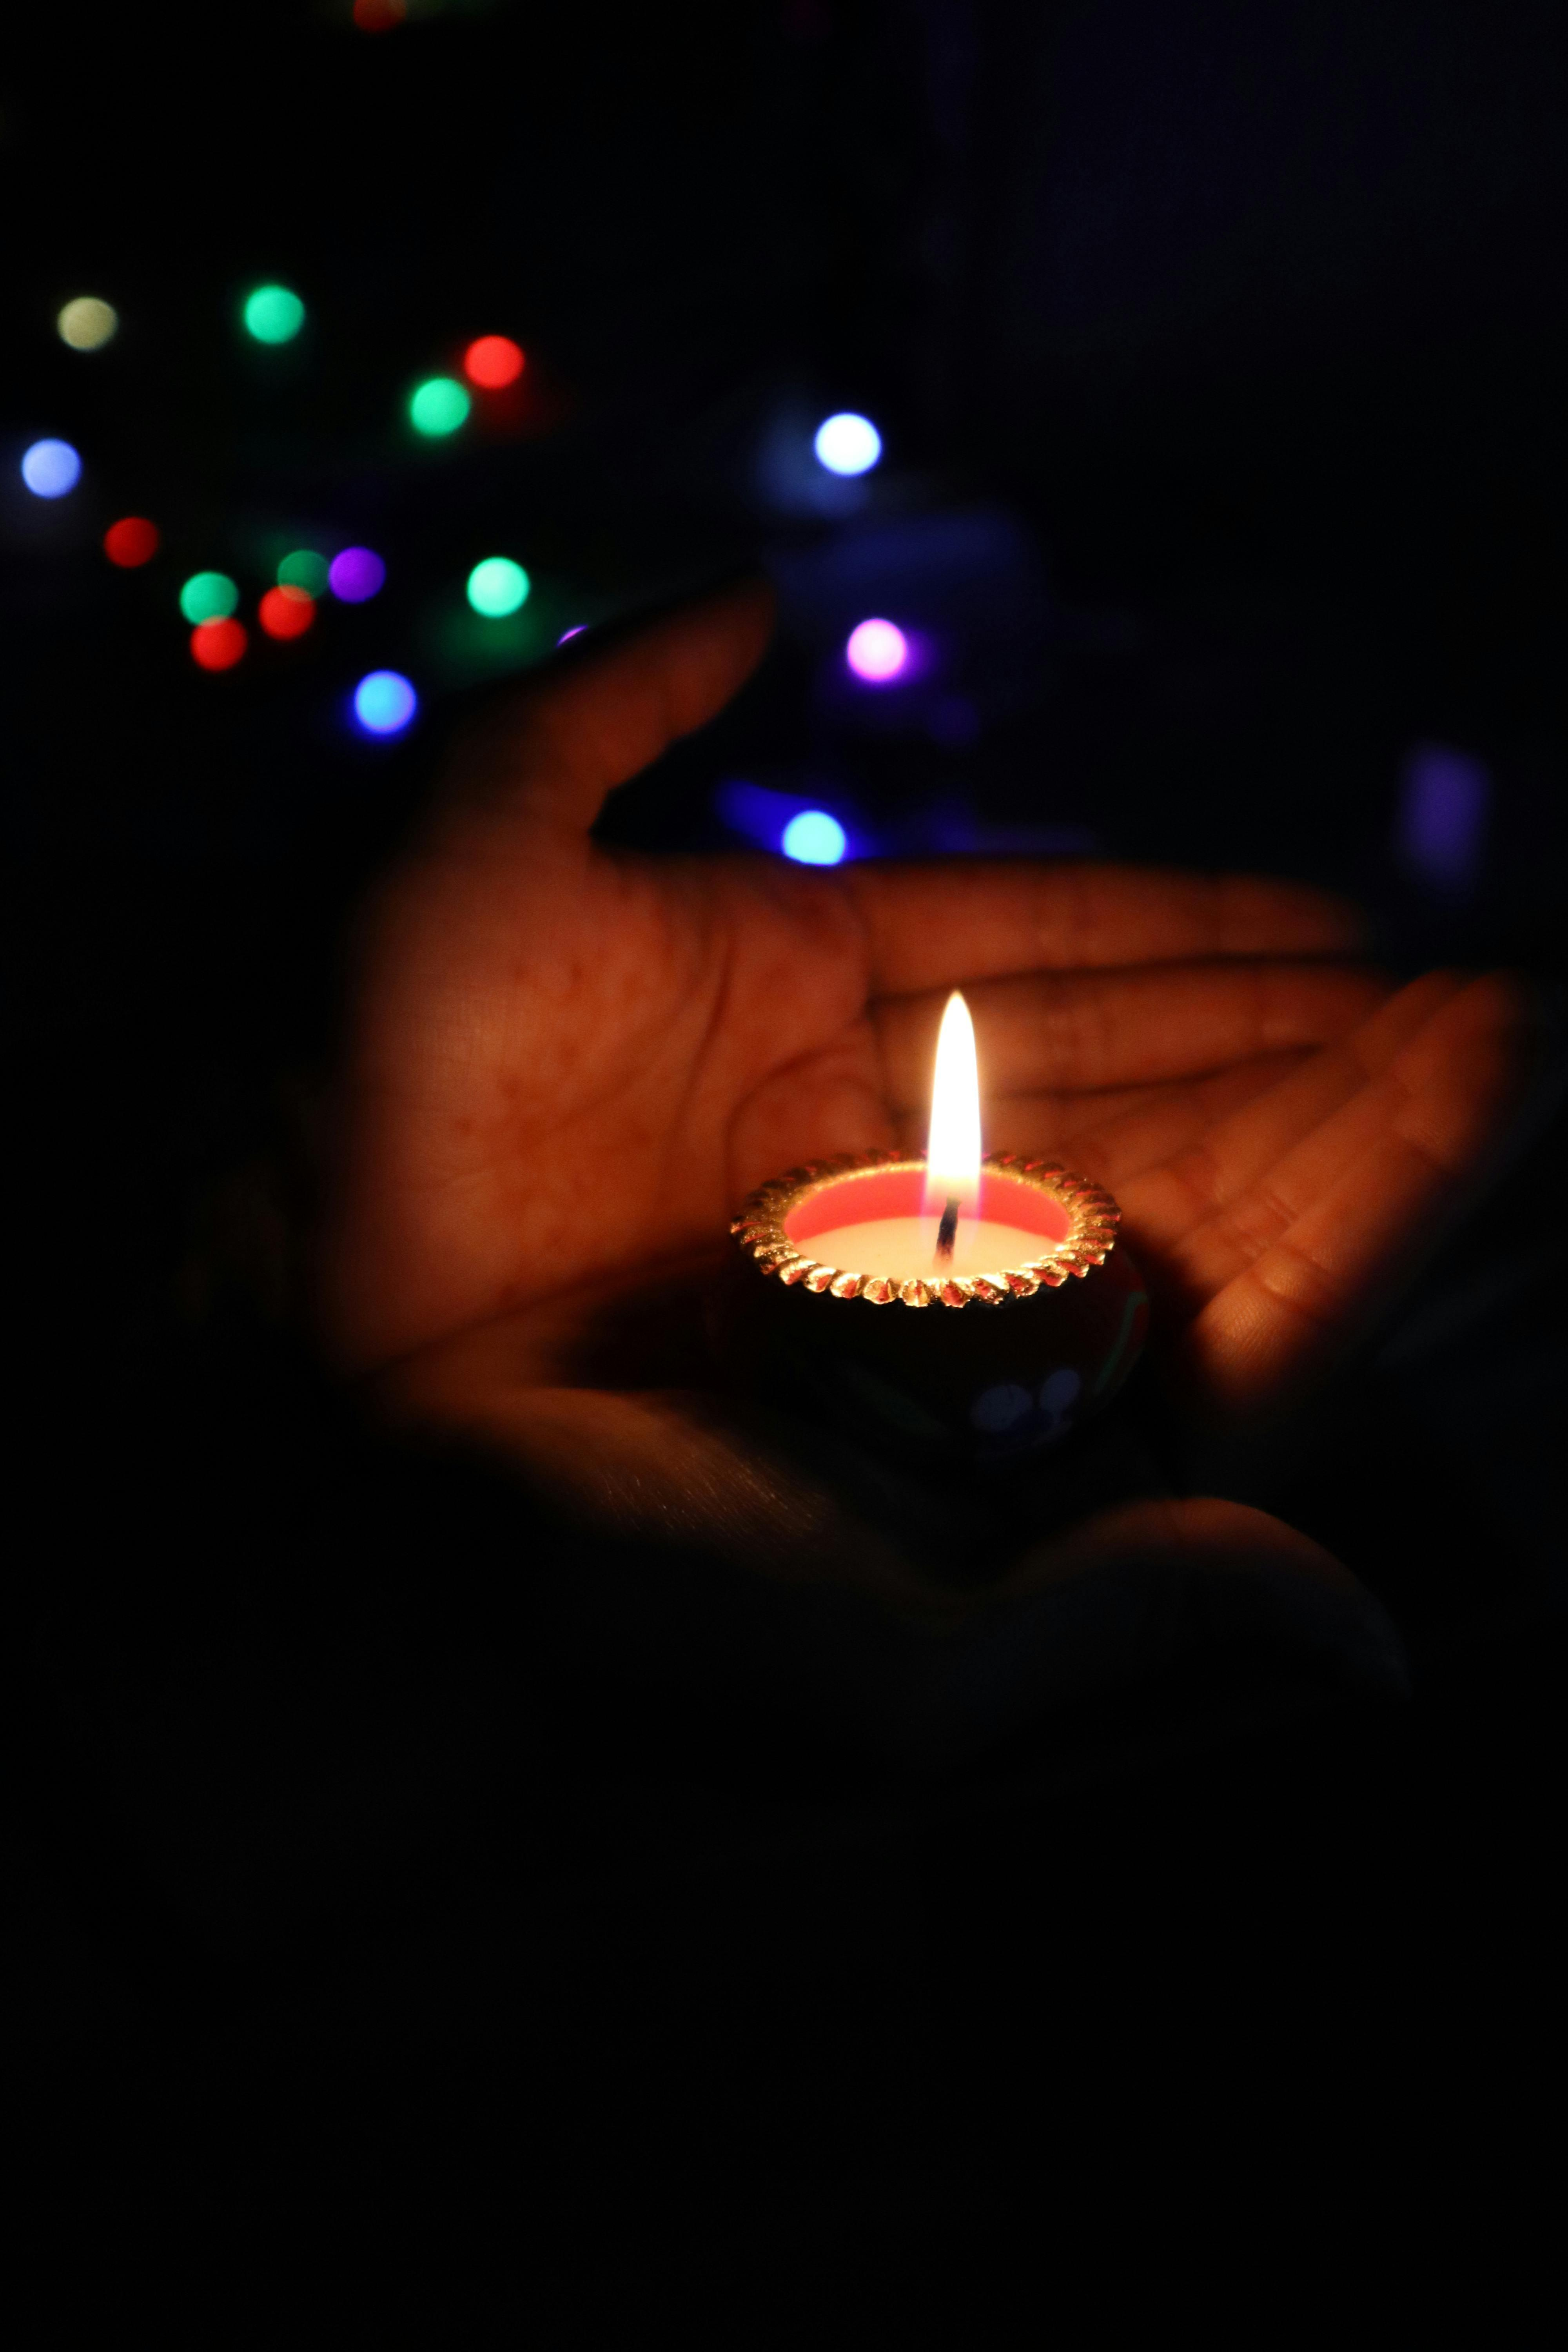Fire: (903, 980, 996, 1270)
